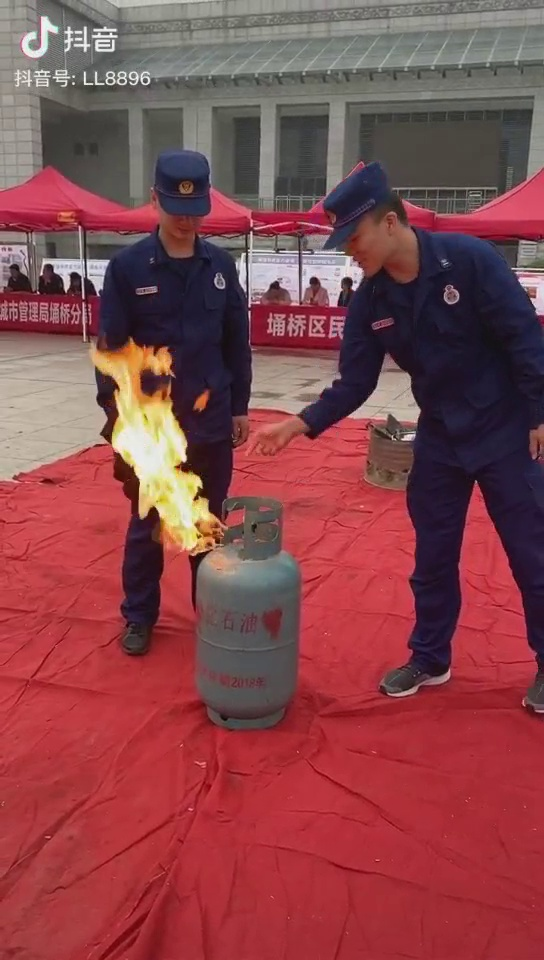fire: (94, 343, 227, 555)
